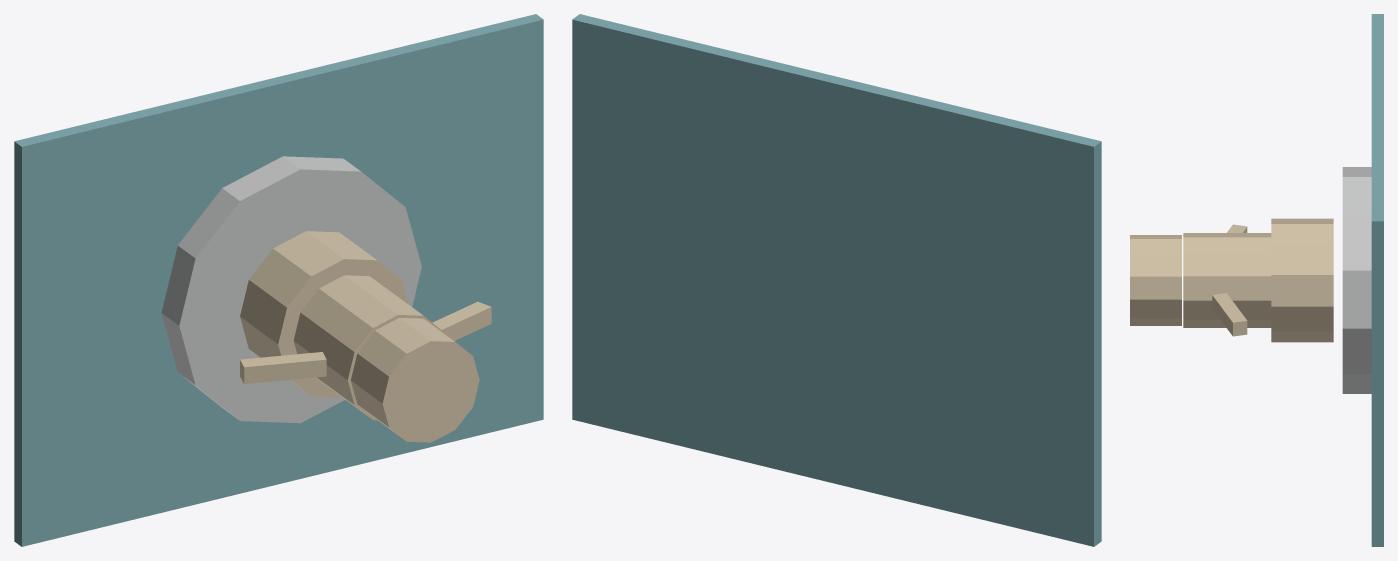
The picture shows the model from 3 angles, left to right: view 1: azimuth 30°, elevation 25°; view 2: azimuth 150°, elevation 25°; view 3: azimuth 270°, elevation 25°; orthographic projection. The views are drawn at different scales.
Visible parts, largest first — view 1: section_00, section_01, section_04, section_02, section_03, section_05, section_06; view 2: section_00; view 3: section_02, section_03, section_00, section_01, section_04, section_06.
Boxes of the visible parts, x1=… form: section_00: x1=14, y1=14, x2=543, y2=546; section_01: x1=161, y1=156, x2=421, y2=423; section_04: x1=351, y1=317, x2=479, y2=442; section_02: x1=240, y1=231, x2=407, y2=397; section_03: x1=293, y1=275, x2=442, y2=420; section_05: x1=240, y1=352, x2=326, y2=384; section_06: x1=432, y1=301, x2=491, y2=340; section_00: x1=572, y1=14, x2=1101, y2=546; section_02: x1=1271, y1=218, x2=1333, y2=342; section_03: x1=1183, y1=233, x2=1271, y2=327; section_00: x1=1371, y1=14, x2=1383, y2=546; section_01: x1=1342, y1=167, x2=1371, y2=393; section_04: x1=1130, y1=235, x2=1181, y2=325; section_06: x1=1212, y1=293, x2=1247, y2=336.
Size of the model in its own units: 7.1 by 5.2 by 3.67.
